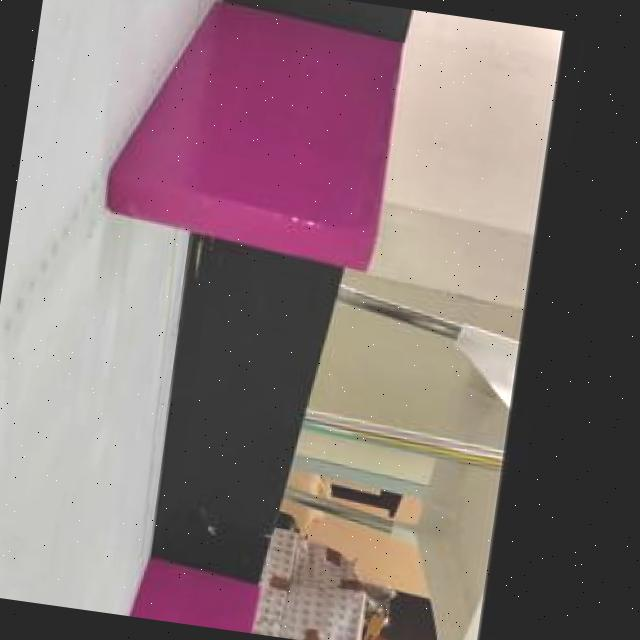xparking: (131, 8, 402, 266), (135, 568, 259, 634)
